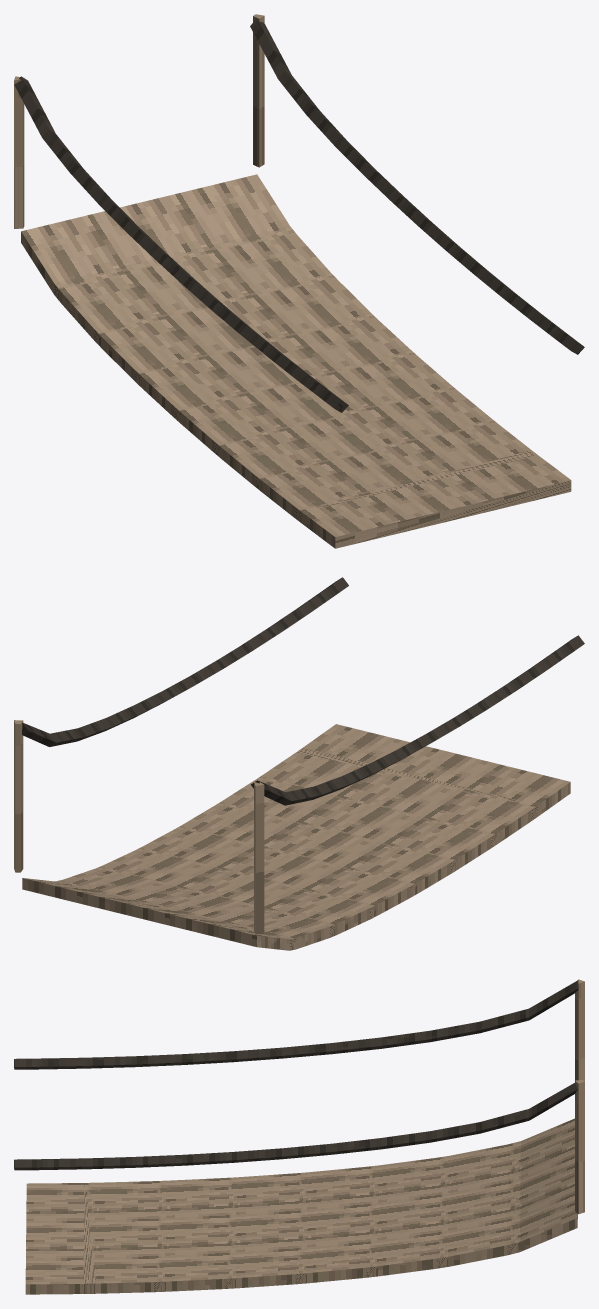
File: BridgeEndCollision.fbx
The picture shows the model from 3 angles, top to bottom: view 1: azimuth 30°, elevation 25°; view 2: azimuth 150°, elevation 25°; view 3: azimuth 270°, elevation 25°; orthographic projection. The views are drawn at different scales.
Parts seen in each view (by area): view 1: bridge_end_collision; view 2: bridge_end_collision; view 3: bridge_end_collision.
Part boxes in pixels (x1,y1,x2,y2): bridge_end_collision: (14, 14, 584, 548); bridge_end_collision: (14, 577, 584, 950); bridge_end_collision: (14, 979, 584, 1294).
Bounding box in the file's own units: 0.9538 × 0.8866 × 2.14.
